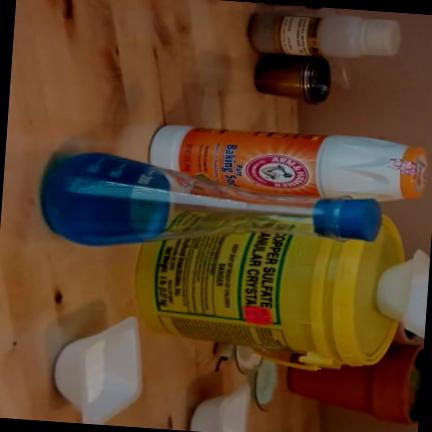container: (41, 152, 326, 245)
fluid: (42, 152, 149, 244)
fluid-surface: (130, 167, 169, 240)
